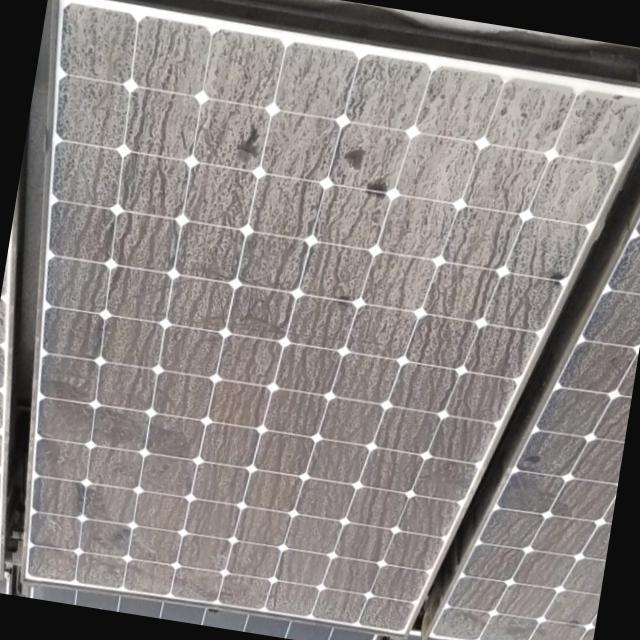faulty: (18, 0, 640, 636)
